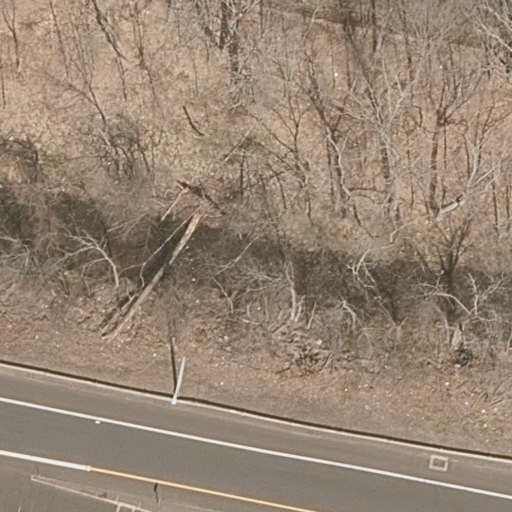DT: (169, 355, 188, 406)
